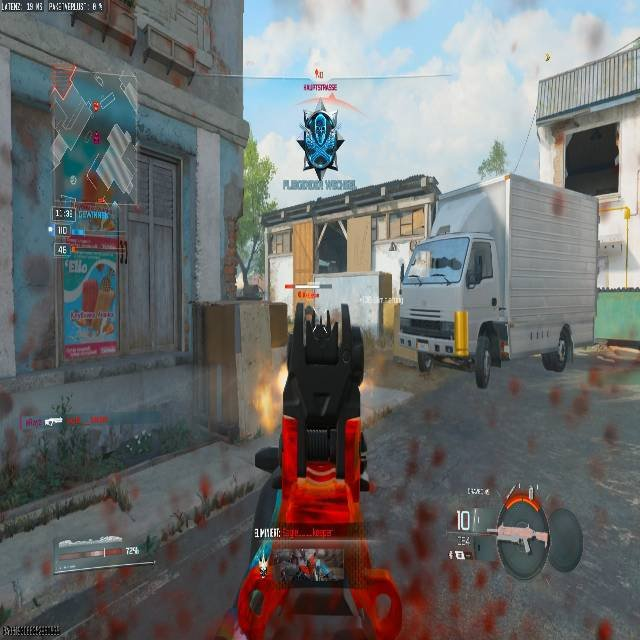player: (297, 108, 344, 180)
